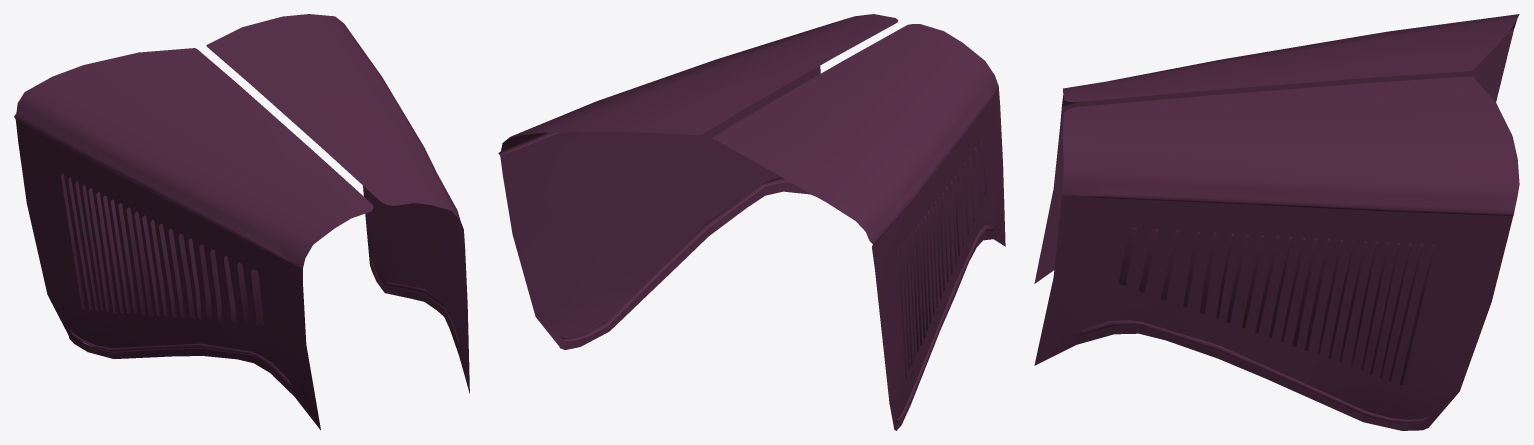
File: Hood.obj
3 renders of one model, left to right at view 1: azimuth 30°, elevation 25°; view 2: azimuth 150°, elevation 25°; view 3: azimuth 270°, elevation 25°, orthographic. The views are drawn at different scales.
Visible parts, largest first — view 1: Hood; view 2: Hood; view 3: Hood.
Part boxes in pixels (bbox=[...]): Hood: bbox=[14, 14, 469, 430]; Hood: bbox=[498, 14, 1005, 430]; Hood: bbox=[1034, 14, 1519, 430].
Bounding box in the file's own units: 17.06 × 11.97 × 18.93.
1 material, 1 textured.
